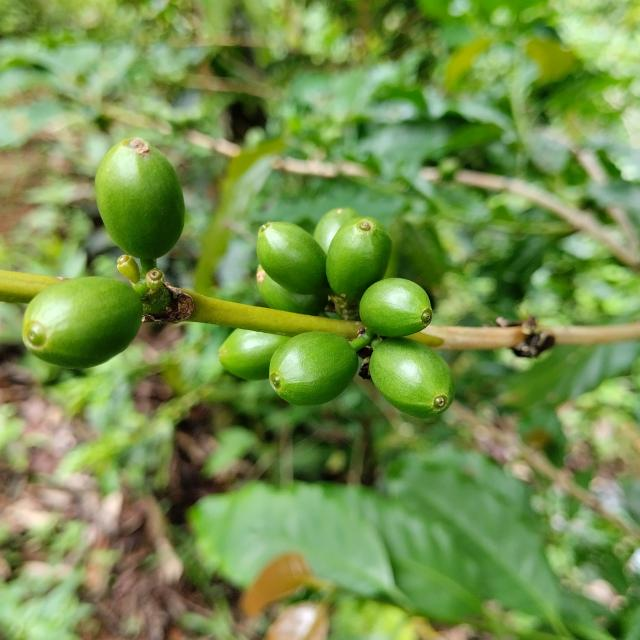green: (94, 137, 184, 261), (21, 277, 142, 368), (370, 338, 455, 419), (269, 332, 359, 406), (326, 216, 392, 301), (257, 222, 327, 295), (360, 278, 433, 337), (218, 329, 291, 380), (256, 265, 328, 316), (313, 207, 360, 254)
